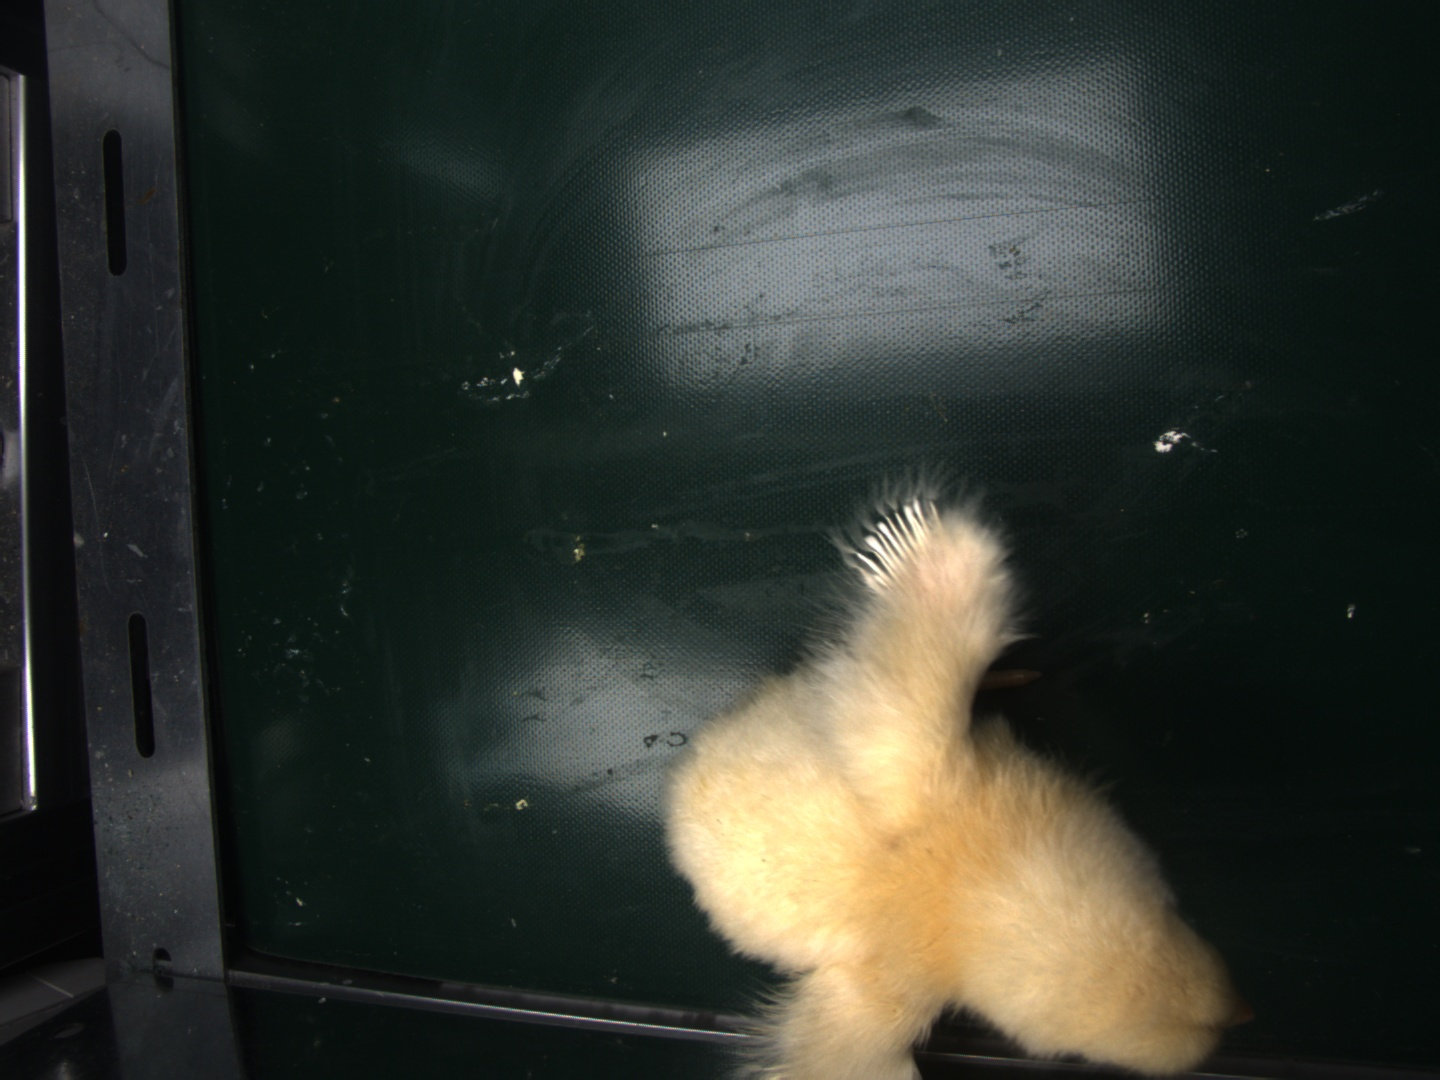male: (863, 506, 940, 590)
